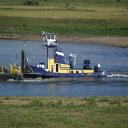tugboat: (20, 31, 108, 82)
